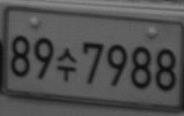7: (82, 42, 104, 83)
8: (155, 47, 176, 92), (130, 45, 151, 89), (10, 34, 31, 77)
9: (106, 43, 128, 86), (34, 36, 54, 80)
수: (57, 47, 76, 82)
